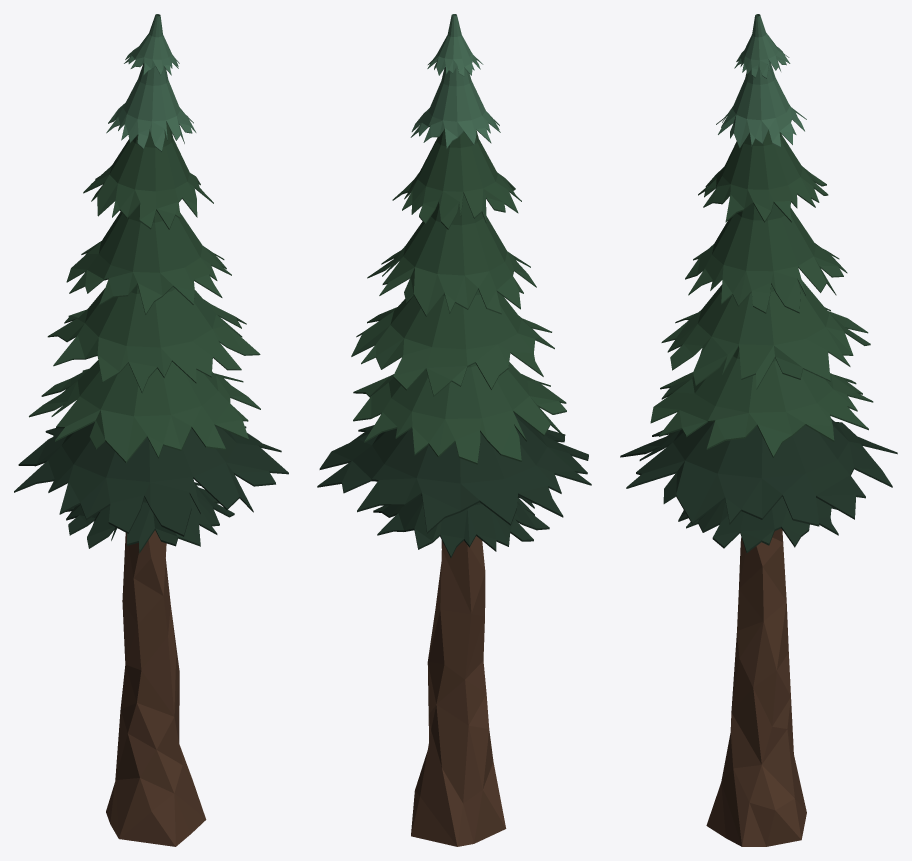
The model's file is BigTree.fbx.
3 renders of one model, left to right at view 1: azimuth 30°, elevation 25°; view 2: azimuth 150°, elevation 25°; view 3: azimuth 270°, elevation 25°, orthographic.
Parts seen in each view (by area): view 1: Circle; view 2: Circle; view 3: Circle.
Boxes of the visible parts, bbox=[...] form: Circle: bbox=[14, 14, 288, 846]; Circle: bbox=[317, 14, 591, 846]; Circle: bbox=[620, 14, 897, 846].
Bounding box in the file's own units: 996 × 3273 × 1008.
